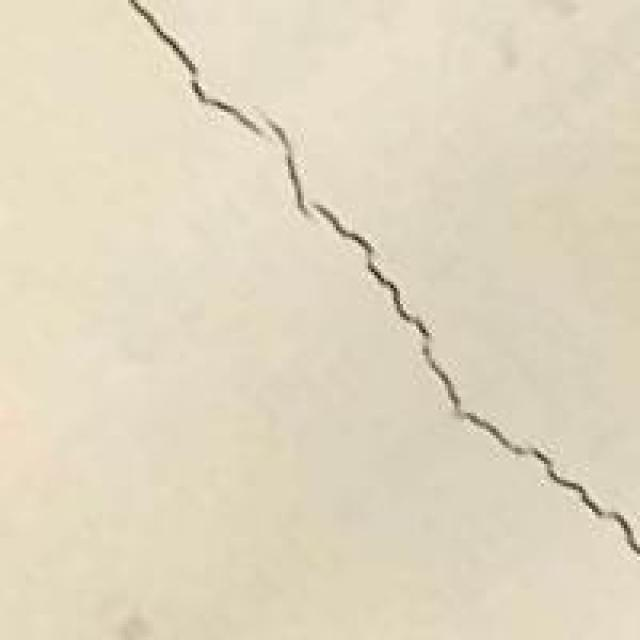crack: (115, 0, 637, 557)
